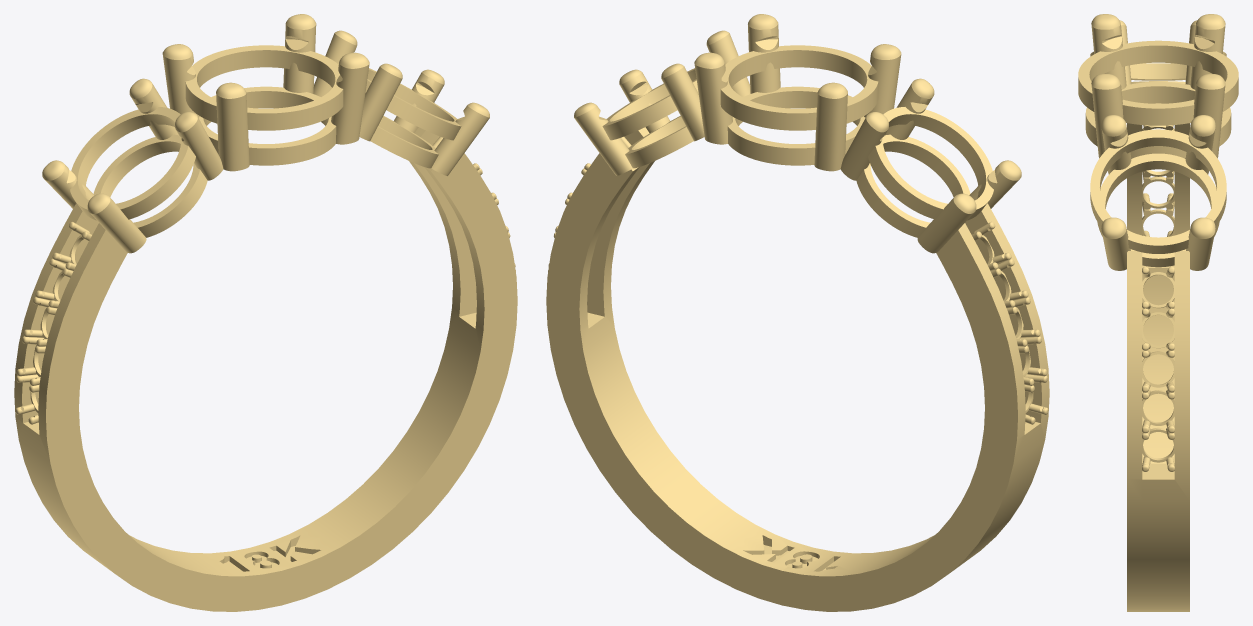
The picture shows the model from 3 angles, left to right: view 1: azimuth 30°, elevation 25°; view 2: azimuth 150°, elevation 25°; view 3: azimuth 270°, elevation 25°; orthographic projection.
Parts seen in each view (by area): view 1: Simple_Ring_1objcleanermaterialmergergles; view 2: Simple_Ring_1objcleanermaterialmergergles; view 3: Simple_Ring_1objcleanermaterialmergergles.
Part boxes in pixels (bbox=[...]): Simple_Ring_1objcleanermaterialmergergles: bbox=[14, 14, 517, 611]; Simple_Ring_1objcleanermaterialmergergles: bbox=[546, 14, 1049, 611]; Simple_Ring_1objcleanermaterialmergergles: bbox=[1078, 14, 1238, 611].
Size of what is drawn, in the model's own units: 2.01 by 2.14 by 0.5773.
